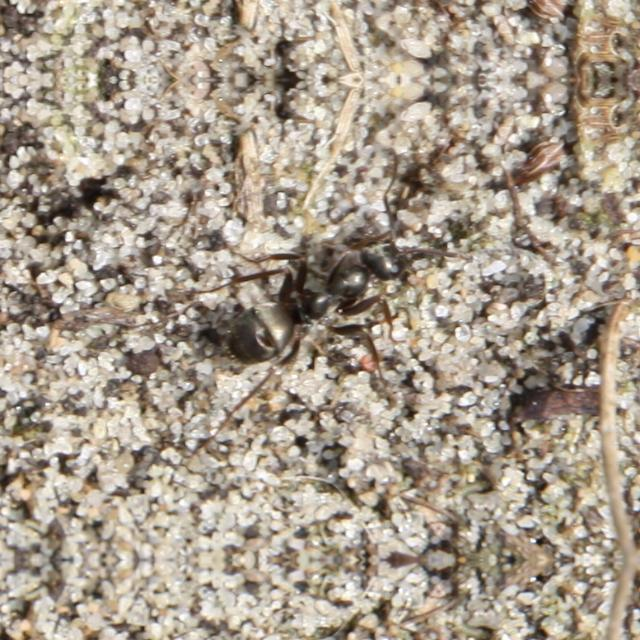Formica: (158, 185, 462, 408)
